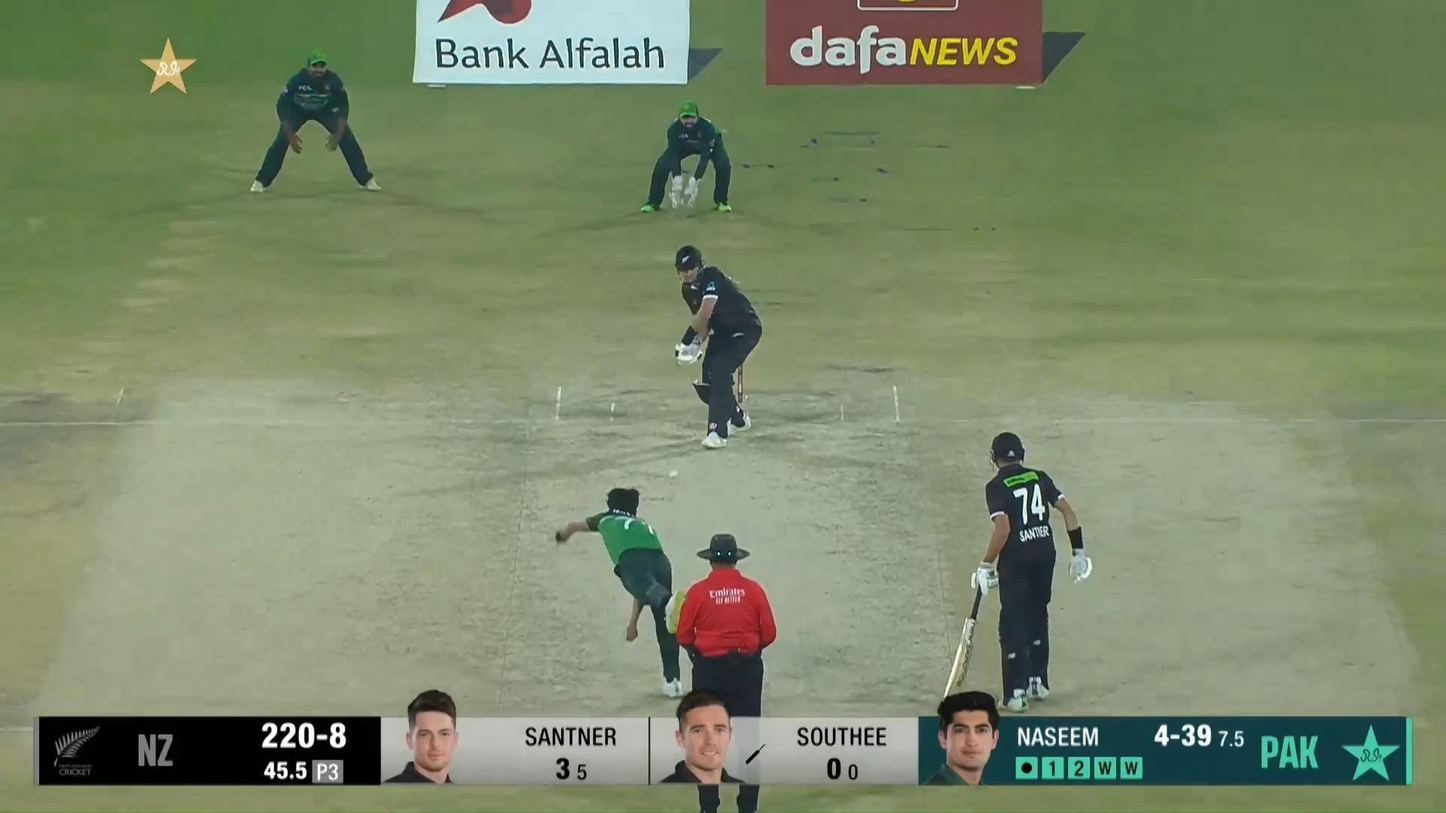BM 1: (674, 244, 763, 451)
BO: (553, 484, 687, 698)
